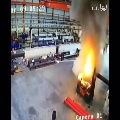fire: (84, 54, 91, 76)
